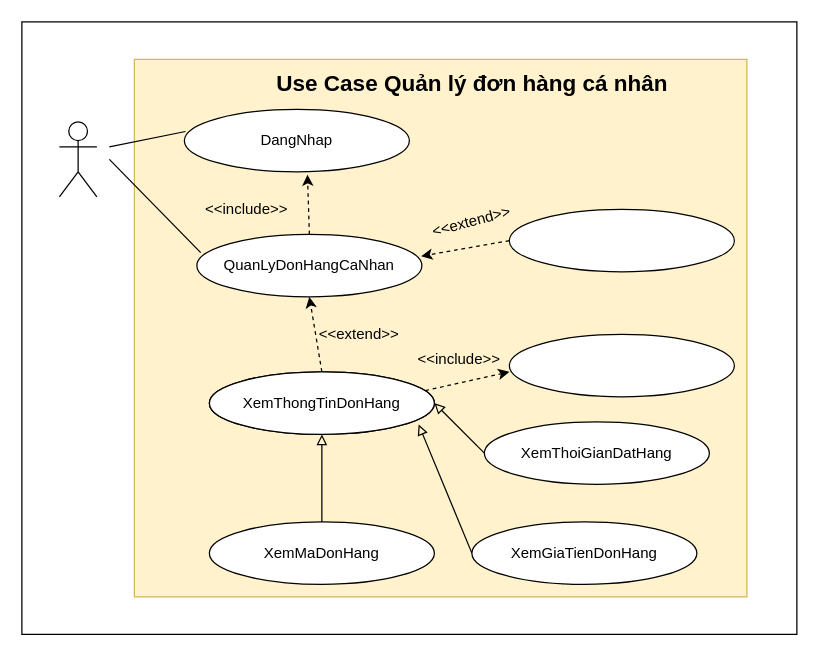
This 819x656 diagram has some shape labels left out. The shapes that lost their labels are listed below. From the top down, each one's centre as x and y in pixels, then its label:
At point (77, 159): "KhachHang".
At point (621, 240): "XemLichSuDonHang".
At point (621, 365): "ThanhToan".
